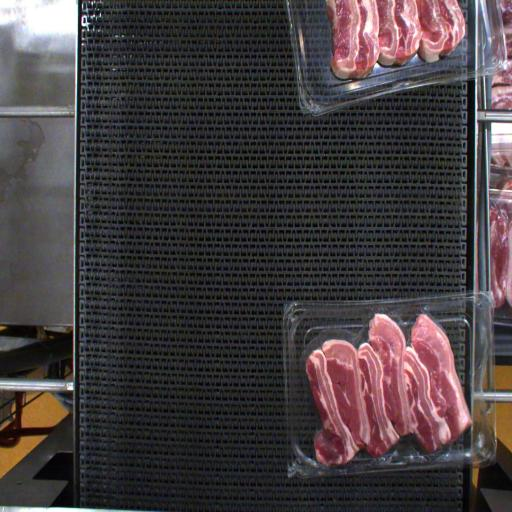unsealed: (286, 306, 458, 391)
